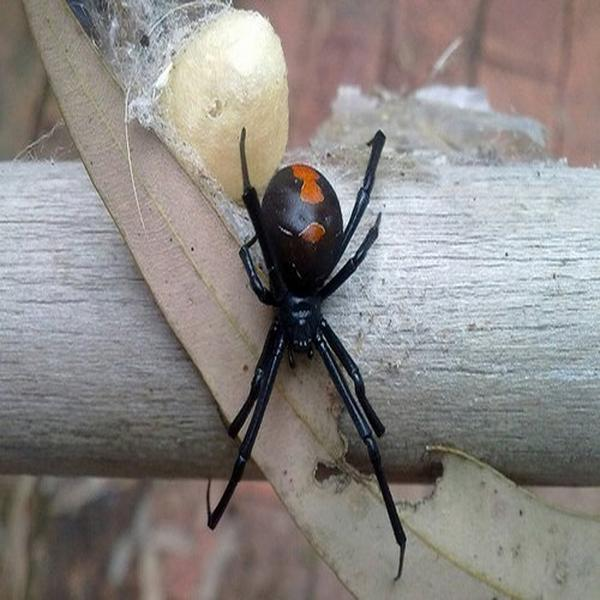Redback Spider: (209, 131, 409, 577)
